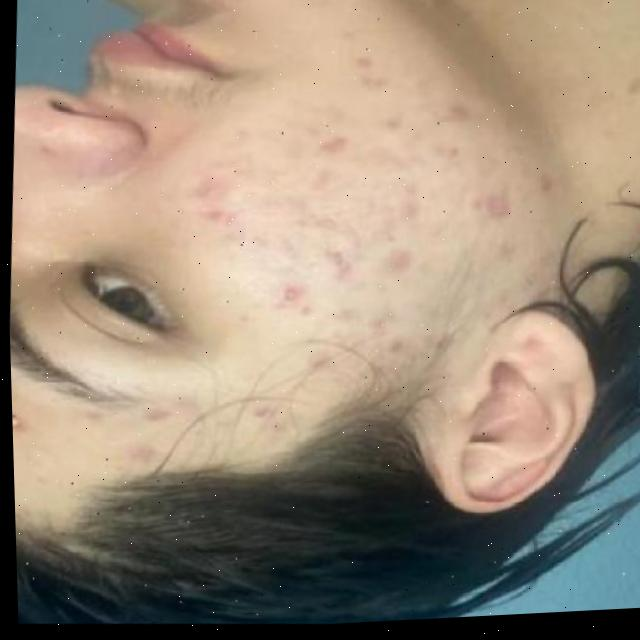Acne: (213, 75, 526, 362)
